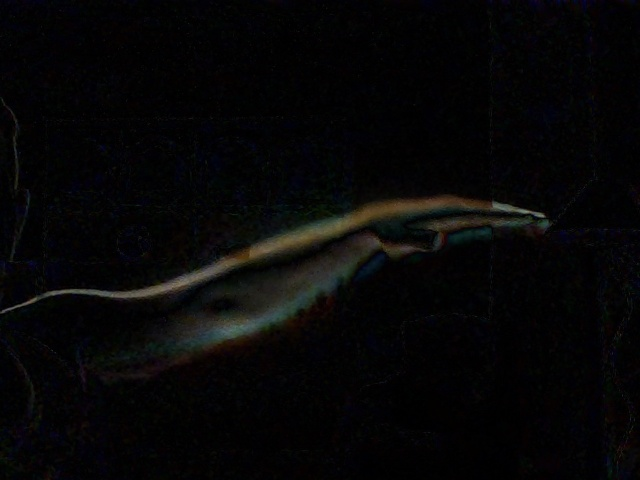hand_pa: (370, 168, 565, 269)
